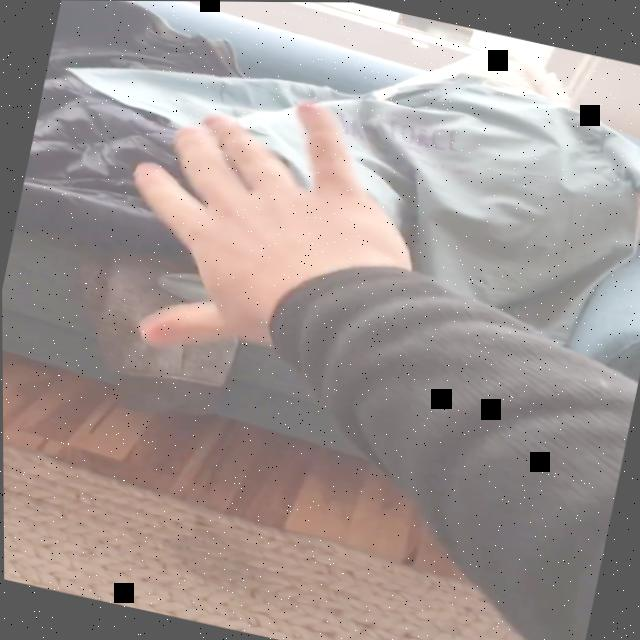Paper: (96, 66, 438, 400)
